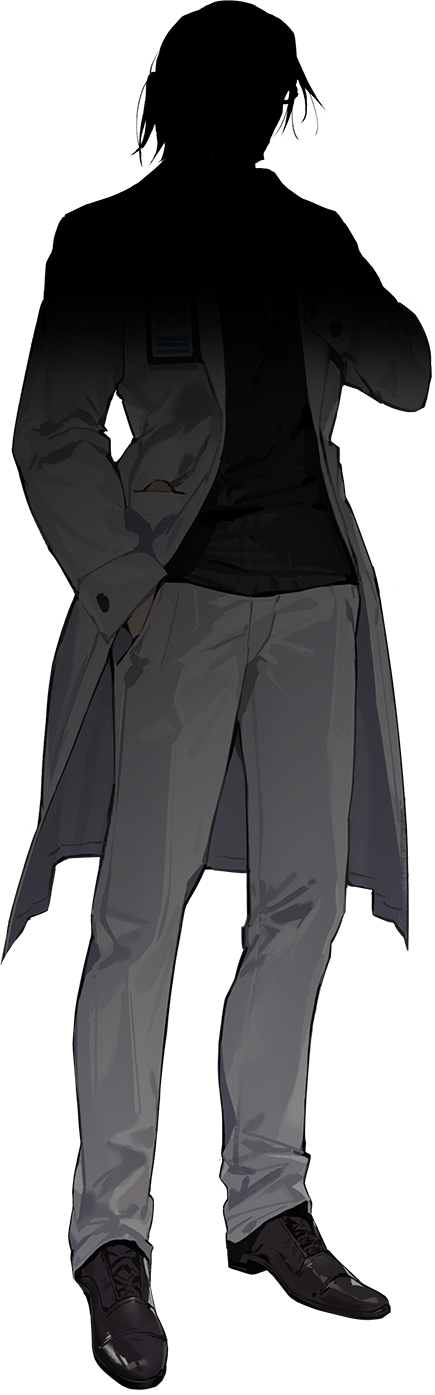person: (1, 28, 434, 1393)
